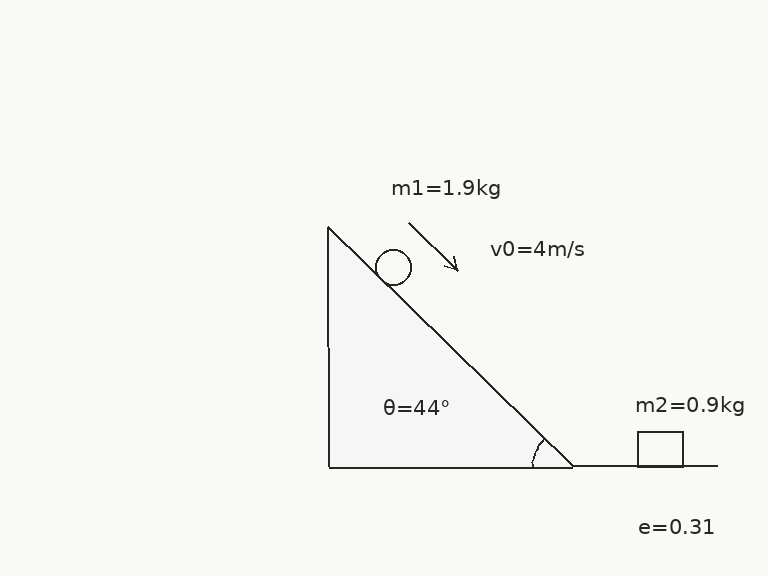ball: (373, 247, 413, 287)
block: (635, 430, 685, 468)
ramp: (326, 227, 575, 468)
